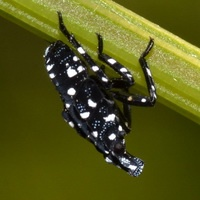insect: (44, 12, 156, 175)
